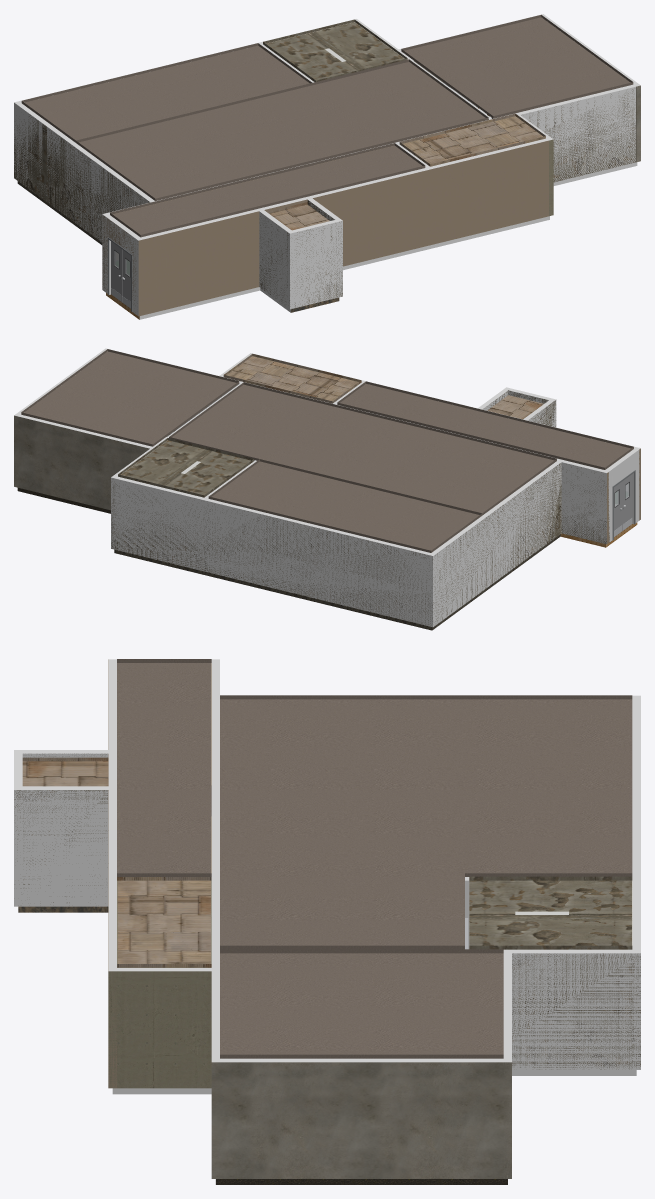
3 renders of one model, top to bottom at view 1: azimuth 30°, elevation 25°; view 2: azimuth 150°, elevation 25°; view 3: azimuth 270°, elevation 25°, orthographic. The views are drawn at different scales.
Visible parts, largest first — view 1: S_ceiling, COL, S_plaster_beige, S_plaster_worn, S_concrete_panels, E_atrium_door_r, E_atrium_door_l, S_concrete_wall; view 2: S_ceiling, COL, S_plaster_worn, S_plaster_white, S_concrete_panels, S_tile_worn, E_atrium_door_l, E_atrium_door_r; view 3: S_ceiling, COL, S_plaster_white, S_plaster_worn, S_concrete_wall, S_concrete_panels, S_carpet, S_plaster_beige.
Part boxes in pixels (x1,y1,x2,y2): S_ceiling: (21, 14, 633, 237); COL: (14, 14, 640, 319); S_plaster_beige: (102, 140, 548, 316); S_plaster_worn: (14, 19, 635, 307); S_concrete_panels: (267, 113, 545, 230); E_atrium_door_r: (111, 241, 122, 302); E_atrium_door_l: (122, 250, 130, 308); S_concrete_wall: (403, 116, 553, 216); S_ceiling: (21, 349, 633, 552); COL: (14, 348, 640, 627); S_plaster_worn: (111, 390, 609, 624); S_plaster_white: (14, 415, 149, 510); S_concrete_panels: (223, 353, 543, 419); S_tile_worn: (114, 534, 560, 630); E_atrium_door_l: (622, 474, 632, 530); E_atrium_door_r: (614, 482, 622, 536); S_ceiling: (117, 659, 632, 1058); COL: (14, 659, 640, 1184); S_plaster_white: (211, 1062, 511, 1178); S_plaster_worn: (14, 753, 640, 1069); S_concrete_wall: (108, 880, 211, 1088); S_concrete_panels: (22, 757, 211, 967); S_carpet: (216, 1179, 507, 1184); S_plaster_beige: (108, 659, 211, 1088).
Size of what is drawn, in the model's own units: 22.22 by 3.3 by 14.6.
Materials: 91 (53 with a texture image).
